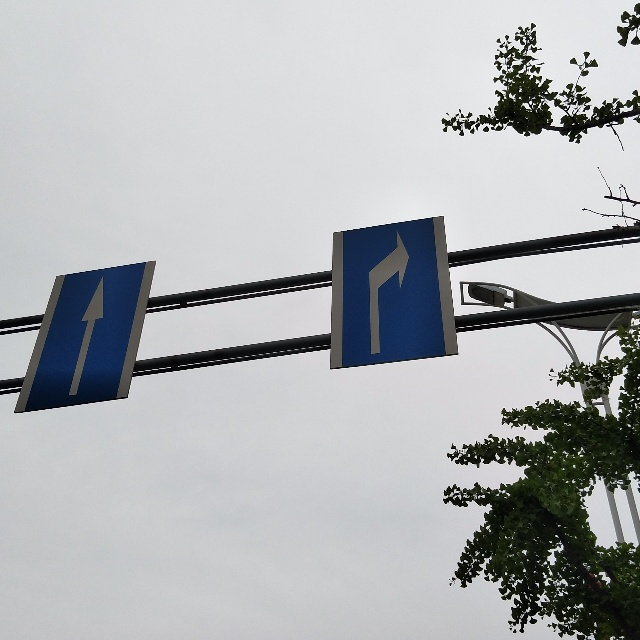right: (342, 232, 433, 360)
straight: (54, 274, 124, 402)
